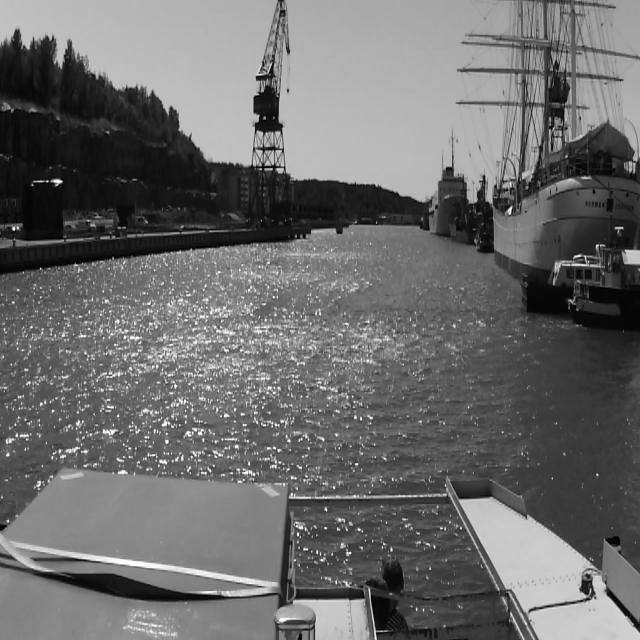ship: (493, 0, 640, 271), (429, 128, 455, 235), (450, 173, 480, 241), (474, 220, 494, 250)
